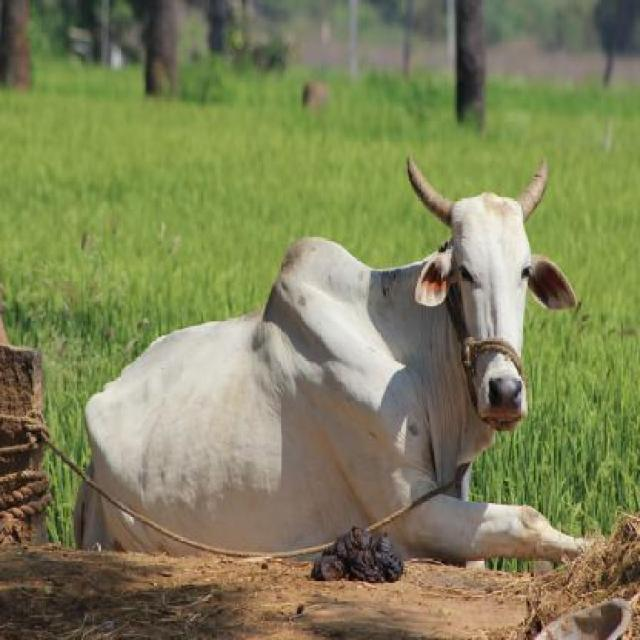cow: (67, 162, 576, 583)
